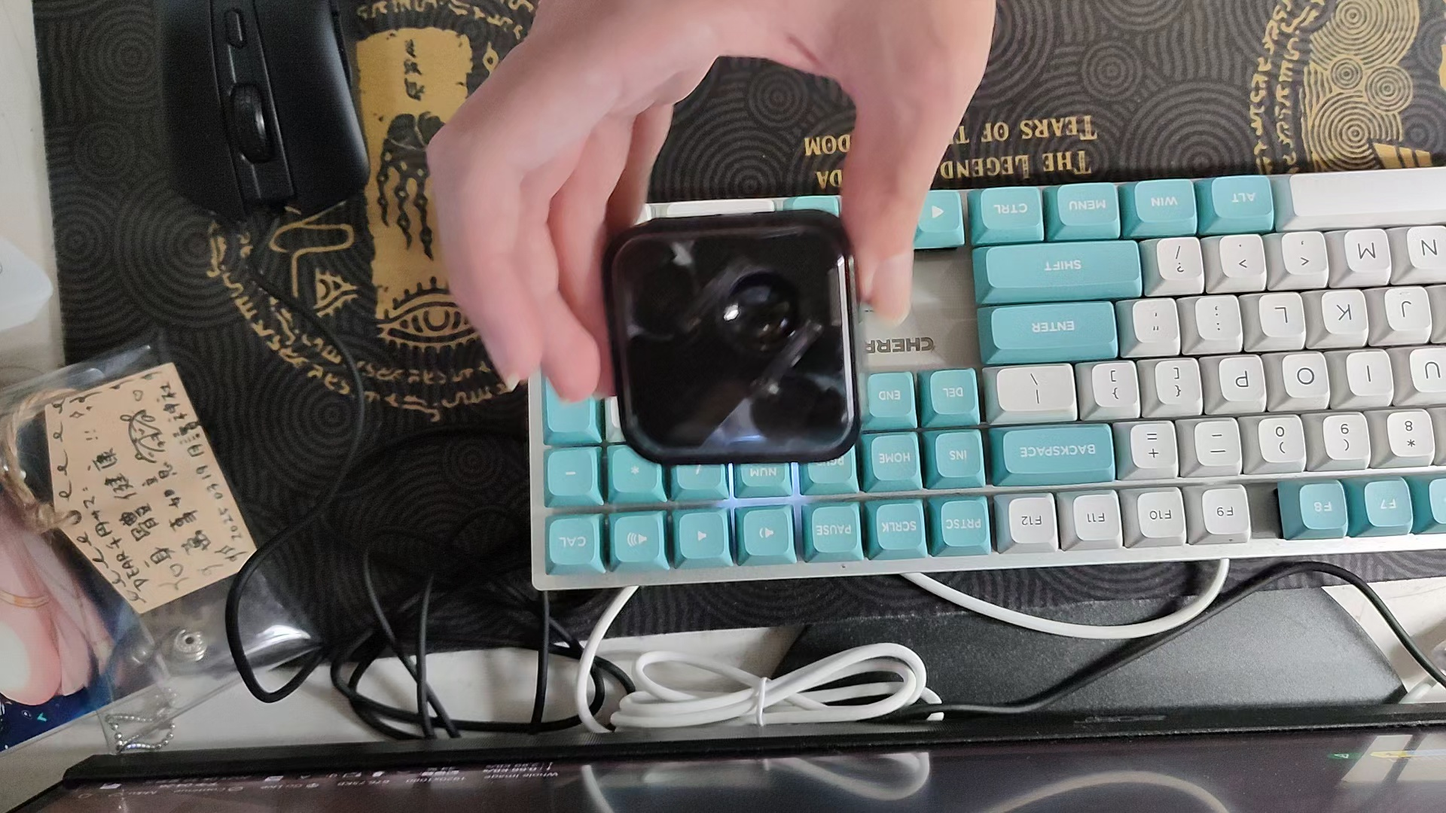Wireless_earphone: (600, 208, 864, 466)
